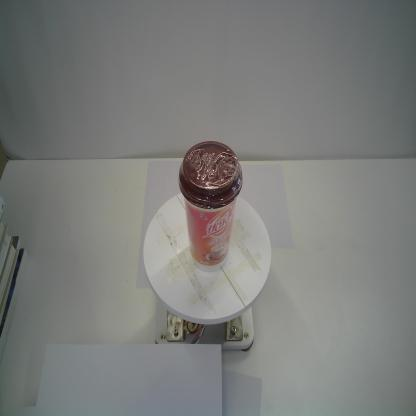Instant Drink: (176, 138, 245, 274)
